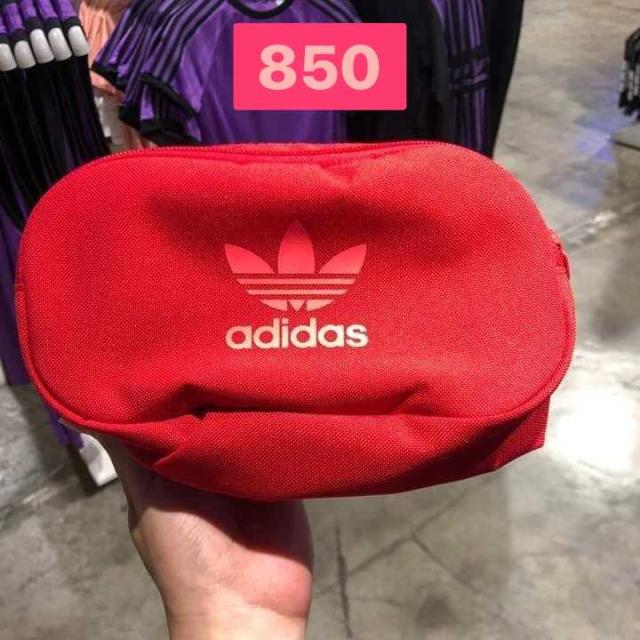Handbag: (14, 139, 577, 505)
